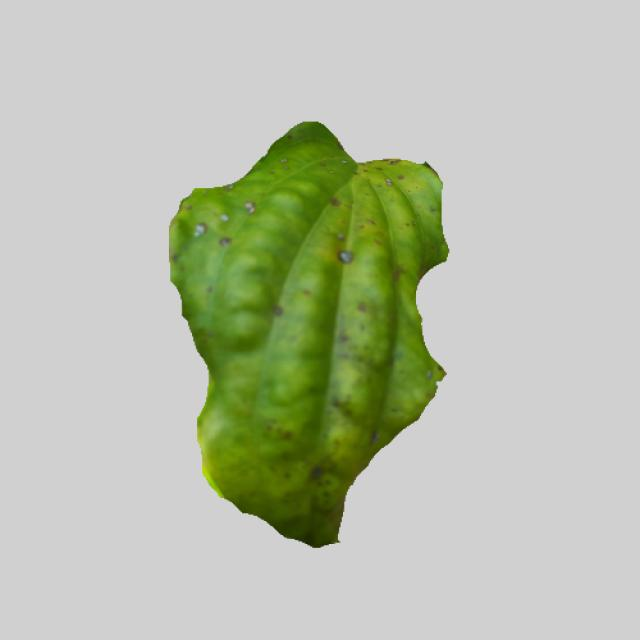yellow-mottle-virus: (151, 118, 494, 546)
